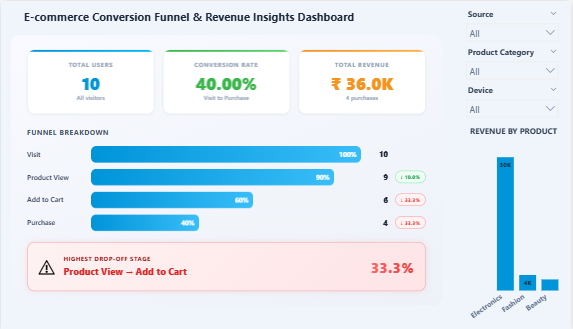

What the dashboard file says about the page in this screenshot:
{"tool":"powerbi","page":{"name":"Main Version","canvas":[950,550],"ordinal":1},"visuals":[{"type":"htmlContent443BE3AD55E043BF878BED274D3A6855","fields":{"content":["EcommerceData.HTML KPI Card"]},"box":[0,51.2,751.2,498.8],"z":0},{"type":"textbox","box":[32.5,7.5,603.8,43.8],"z":1000},{"type":"slicer","fields":{"Values":["EcommerceData.Source"]},"box":[765,7.5,173.8,63.8],"z":2000},{"type":"slicer","fields":{"Values":["EcommerceData.ProductCategory"]},"box":[765,71.2,173.8,63.8],"z":3000},{"type":"slicer","fields":{"Values":["EcommerceData.Device"]},"box":[765,135,173.8,63.8],"z":4000},{"type":"columnChart","title":"REVENUE BY PRODUCT","fields":{"Category":["EcommerceData.ProductCategory"],"Y":["EcommerceData.Total Revenue"]},"box":[776.2,208.8,173.8,341.2],"z":5000}]}

Visuals, with their boxes in screenshot pixels (x1, y1, x2, y2), scaled from the page's 950x550 canvas onto the 573x329 screenshot:
htmlContent443BE3AD55E043BF878BED274D3A6855 - EcommerceData.HTML KPI Card: (x1=0, y1=31, x2=453, y2=328)
textbox: (x1=20, y1=4, x2=384, y2=31)
slicer - EcommerceData.Source: (x1=461, y1=4, x2=566, y2=43)
slicer - EcommerceData.ProductCategory: (x1=461, y1=43, x2=566, y2=81)
slicer - EcommerceData.Device: (x1=461, y1=81, x2=566, y2=119)
"REVENUE BY PRODUCT" columnChart: (x1=468, y1=125, x2=572, y2=328)
